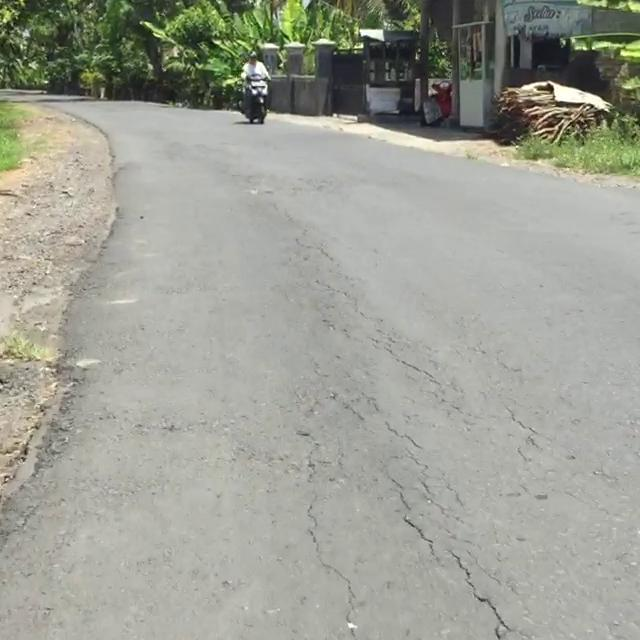retak_memanjang: (369, 430, 534, 640)
